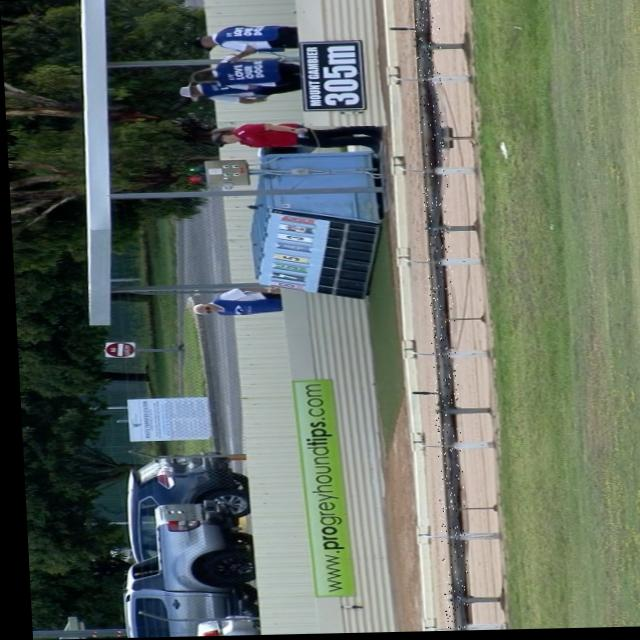rail: (414, 0, 464, 633)
